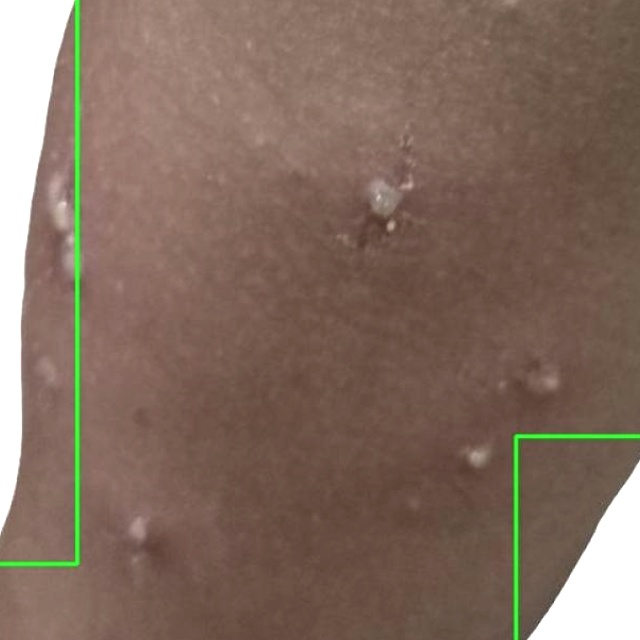Scabies: (0, 0, 78, 565), (515, 436, 639, 639)
